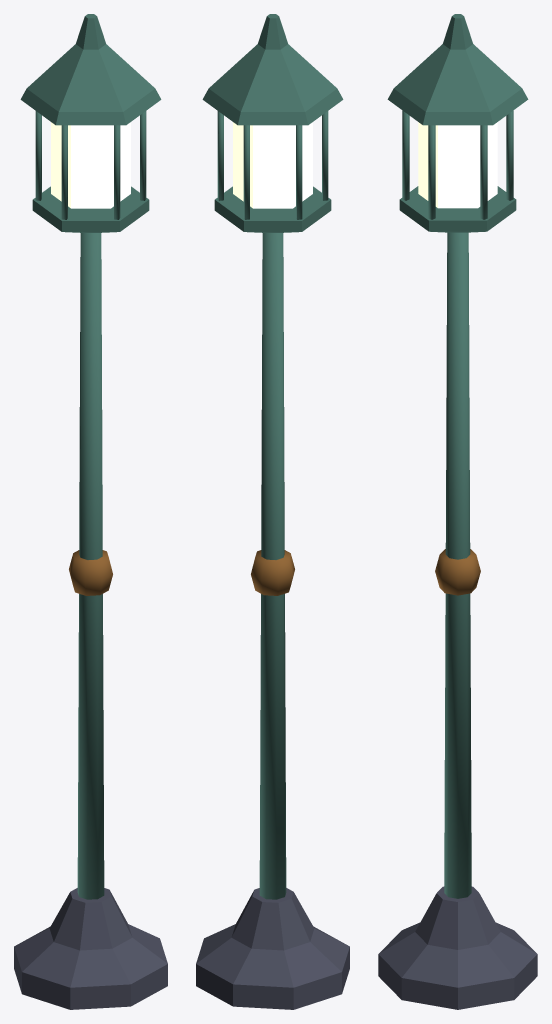
The model's file is lamp.glb.
3 renders of one model, left to right at view 1: azimuth 30°, elevation 25°; view 2: azimuth 150°, elevation 25°; view 3: azimuth 270°, elevation 25°, orthographic.
Visible parts, largest first — view 1: Lamp; view 2: Lamp; view 3: Lamp.
Boxes of the visible parts, box(x1,y1,x2,y2) form: Lamp: box(14, 14, 167, 1009); Lamp: box(196, 14, 349, 1009); Lamp: box(378, 14, 537, 1009).
Bounding box in the file's own units: 0.52 × 3.46 × 0.52.
